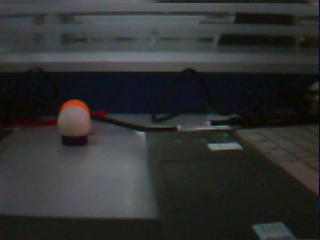oball: (59, 98, 90, 108)
